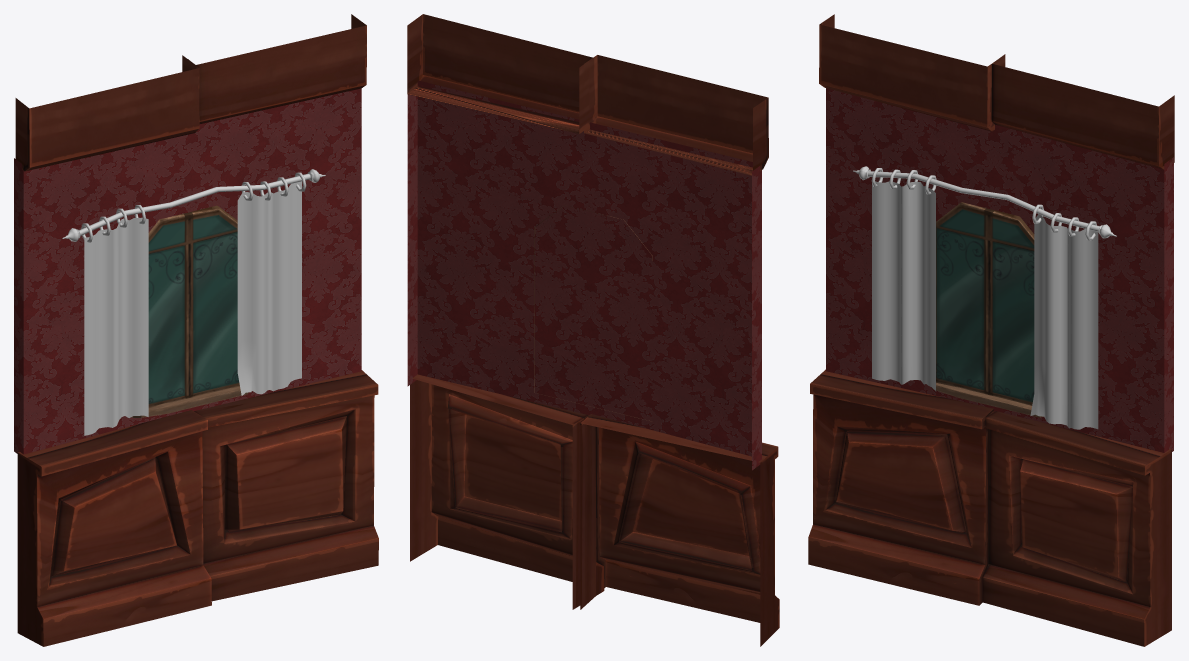
Rendered from Wall_Window_01.FBX.
The picture shows the model from 3 angles, left to right: view 1: azimuth 30°, elevation 25°; view 2: azimuth 150°, elevation 25°; view 3: azimuth 330°, elevation 25°; orthographic projection.
Visible parts, largest first — view 1: Plane003, Curtain002, window, Curtainrail; view 2: Plane003; view 3: Plane003, Curtain002, window, Curtainrail.
Part boxes in pixels (box(x1,y1,x2,y2)): Plane003: box(14, 14, 378, 646); Curtain002: box(81, 172, 306, 435); window: box(131, 205, 248, 417); Curtainrail: box(62, 169, 325, 241); Plane003: box(407, 14, 779, 646); Plane003: box(808, 14, 1174, 646); Curtain002: box(871, 168, 1098, 429); window: box(932, 202, 1043, 417); Curtainrail: box(853, 166, 1116, 238).
Size of the model in its own units: 203 by 301 by 33.47.
